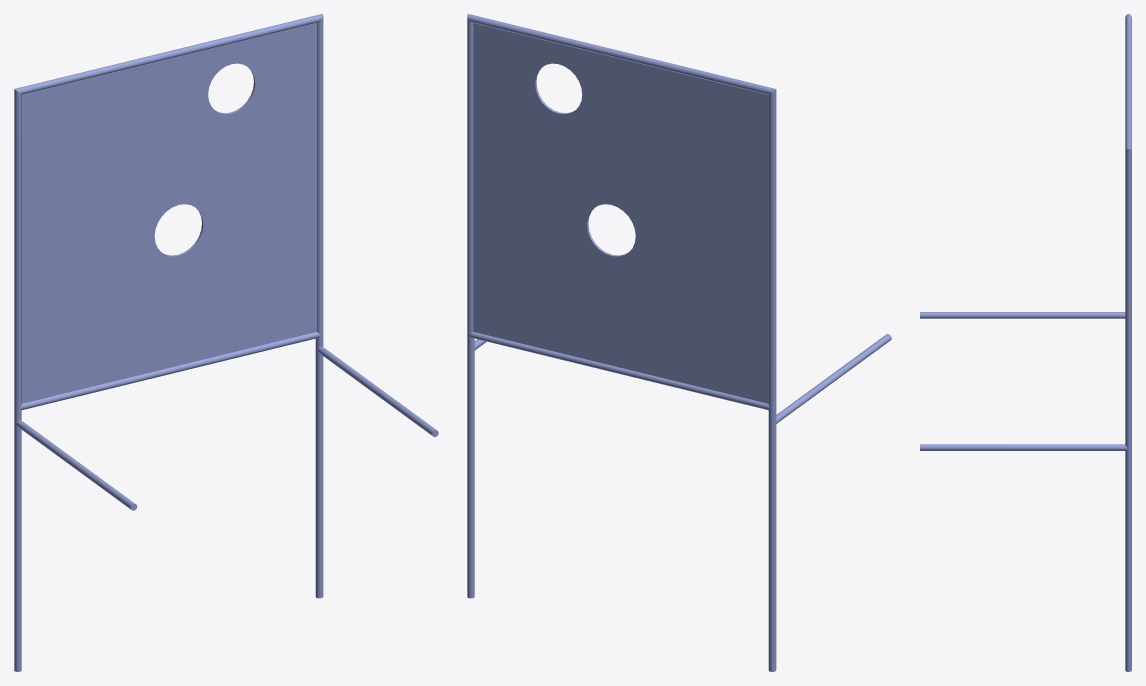
File: Tagging.dae
3 renders of one model, left to right at view 1: azimuth 30°, elevation 25°; view 2: azimuth 150°, elevation 25°; view 3: azimuth 270°, elevation 25°, orthographic. The views are drawn at different scales.
Parts seen in each view (by area): view 1: node_4cb09e95_25b2_4c98_b2ac_ae7f659c1bf8_mesh0; view 2: node_4cb09e95_25b2_4c98_b2ac_ae7f659c1bf8_mesh0; view 3: node_4cb09e95_25b2_4c98_b2ac_ae7f659c1bf8_mesh0.
Boxes of the visible parts, box(x1,y1,x2,y2) form: node_4cb09e95_25b2_4c98_b2ac_ae7f659c1bf8_mesh0: box(14, 14, 438, 671); node_4cb09e95_25b2_4c98_b2ac_ae7f659c1bf8_mesh0: box(467, 14, 891, 671); node_4cb09e95_25b2_4c98_b2ac_ae7f659c1bf8_mesh0: box(920, 14, 1131, 671).
Size of the model in its own units: 0.6127 by 1.11 by 0.4064.
